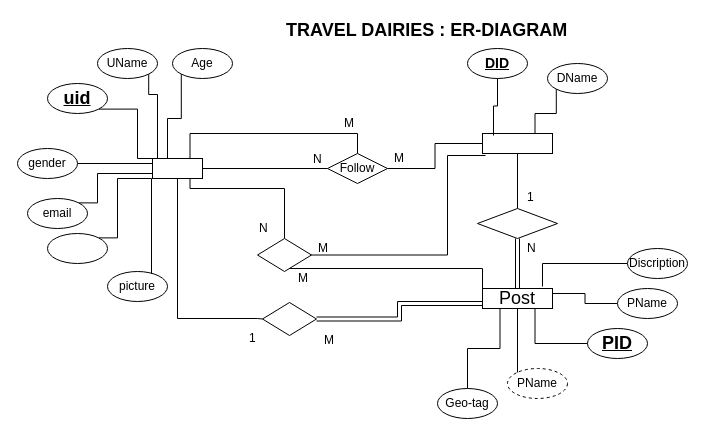
Image size: 705x436. Some labels were removed from this diagram. Each missing label, with the centre of its shape:
contains: the point at 517,223
Diaries: the point at 517,143
password: the point at 77,248
Posting: the point at 289,319
user: the point at 177,168
Vote: the point at 284,255
